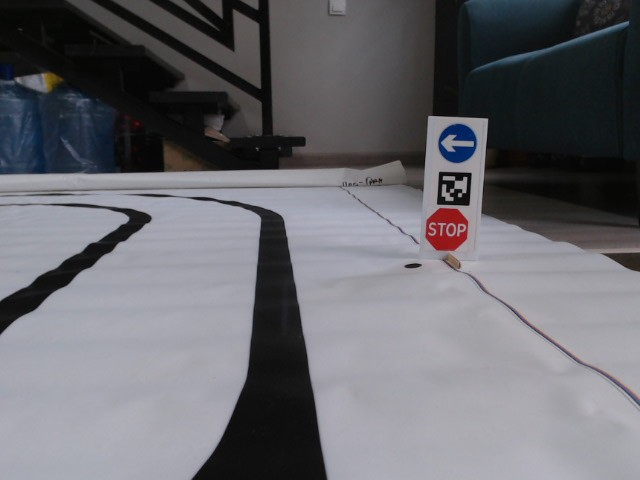Stop: (424, 207, 471, 253)
